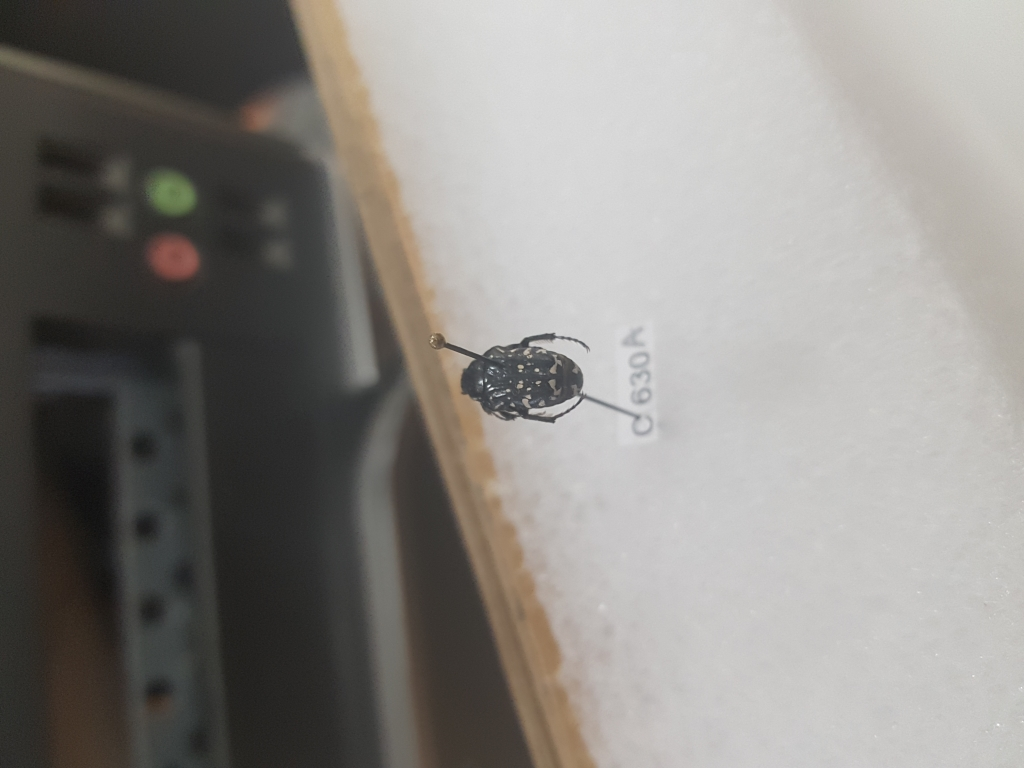Oxythyrea_albopicta: (458, 325, 592, 434)
